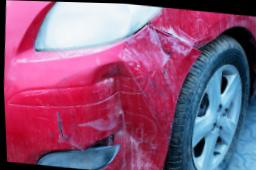Bumper: (3, 21, 199, 170)
Fender: (149, 6, 244, 47)
